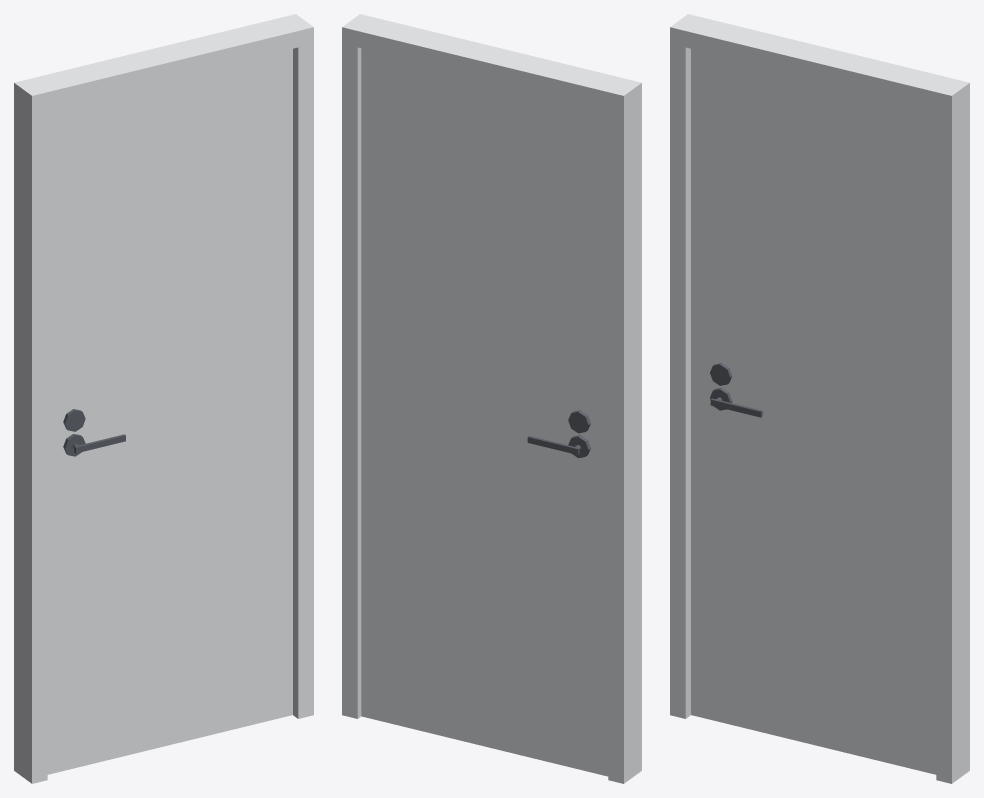
The model's file is Building_Door_Bed.glb.
The picture shows the model from 3 angles, left to right: view 1: azimuth 30°, elevation 25°; view 2: azimuth 150°, elevation 25°; view 3: azimuth 330°, elevation 25°; orthographic projection.
Visible parts, largest first — view 1: Building_Door_Bed; view 2: Building_Door_Bed; view 3: Building_Door_Bed.
Boxes of the visible parts, <box> form: Building_Door_Bed: <box>14,14,313,783</box>; Building_Door_Bed: <box>342,14,641,783</box>; Building_Door_Bed: <box>670,14,969,783</box>.
Size of the model in its own units: 0.9 by 2.1 by 0.1287.
1 material, 1 textured.
